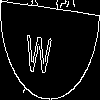W: (25, 25, 53, 75)
